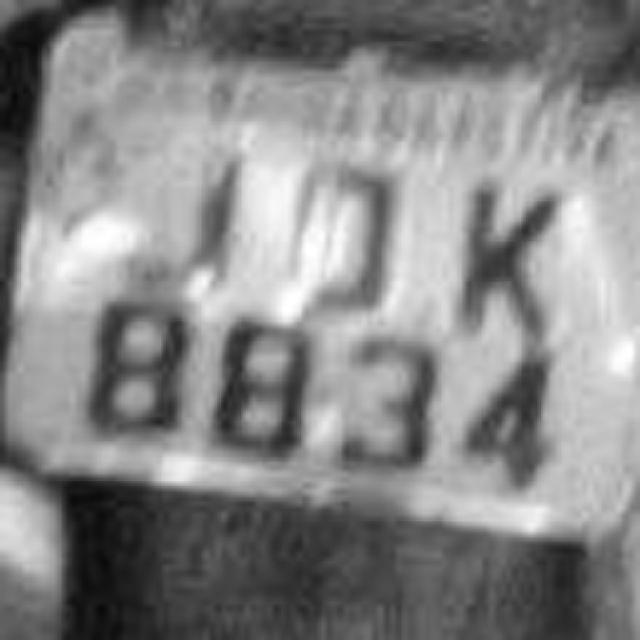3: (311, 312, 464, 492)
4: (440, 325, 572, 500)
8: (68, 271, 208, 464), (196, 292, 336, 476)
K: (432, 148, 568, 364)
O: (276, 135, 416, 320)
